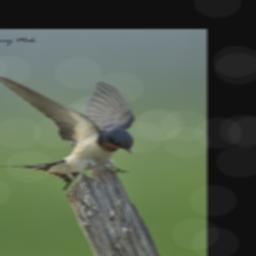Swallow: (0, 72, 135, 189)
